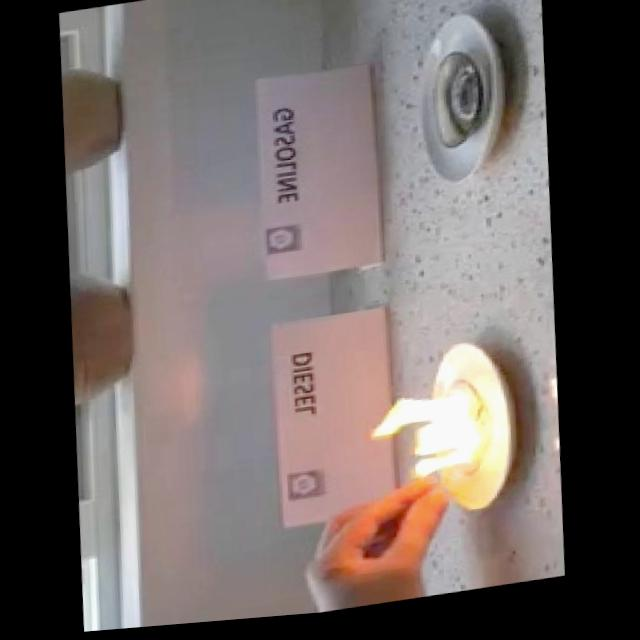helmet: (364, 389, 492, 499)
